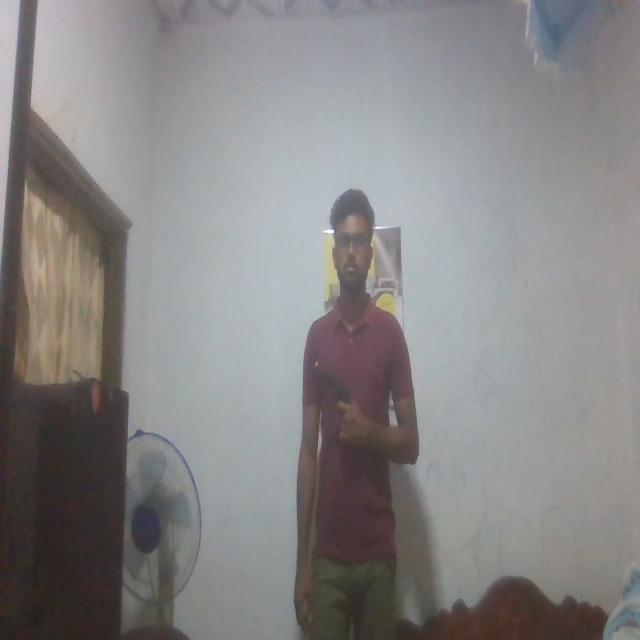Gun_Holder: (316, 354, 368, 459)
Person: (294, 183, 420, 640)
